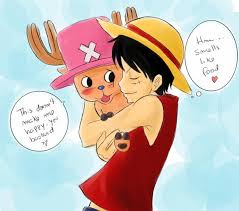chopper: (26, 6, 122, 104)
luffy: (114, 10, 194, 106)
